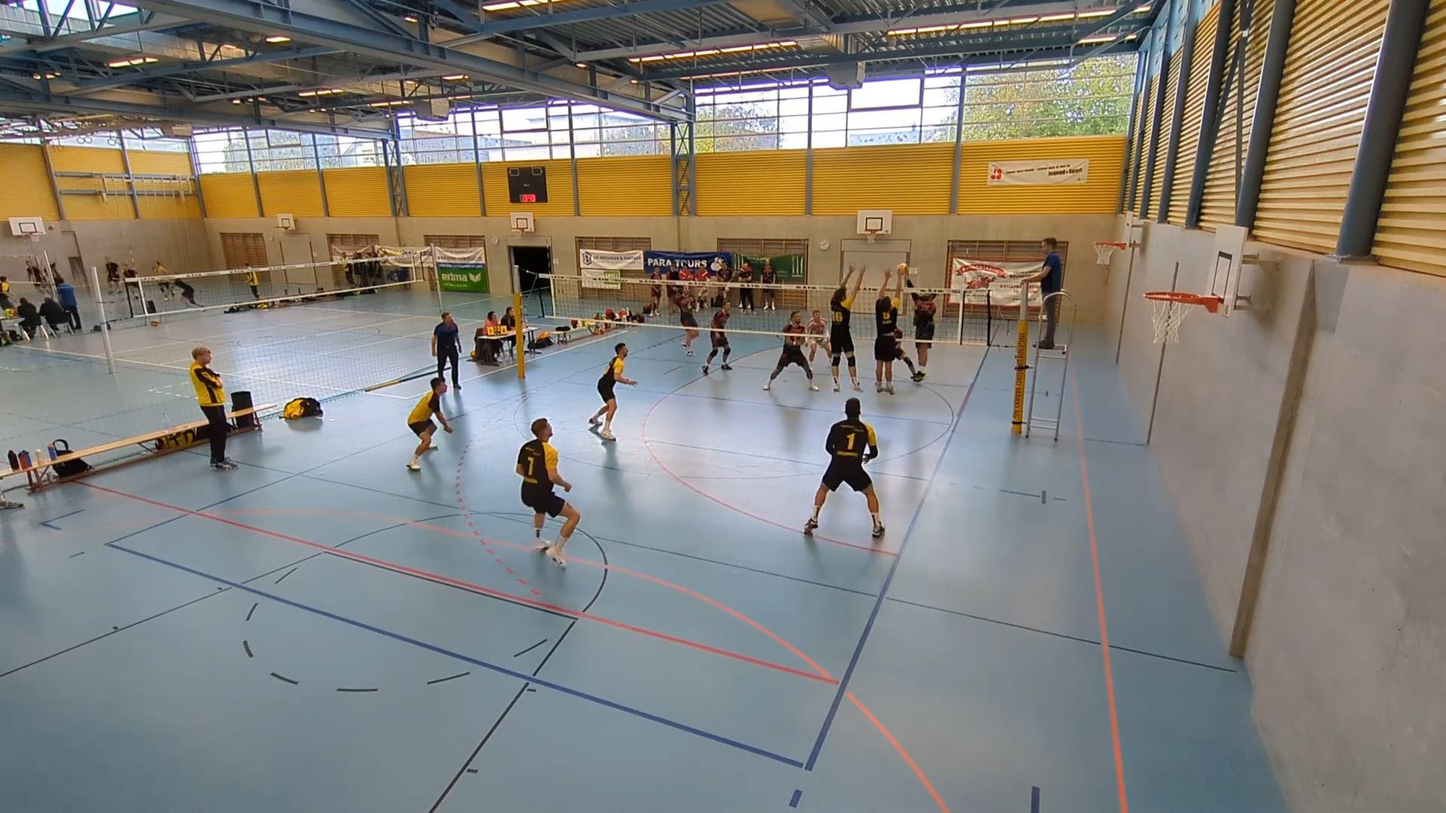attacco: (899, 259, 948, 377)
muro: (873, 263, 921, 396), (827, 262, 870, 399)
